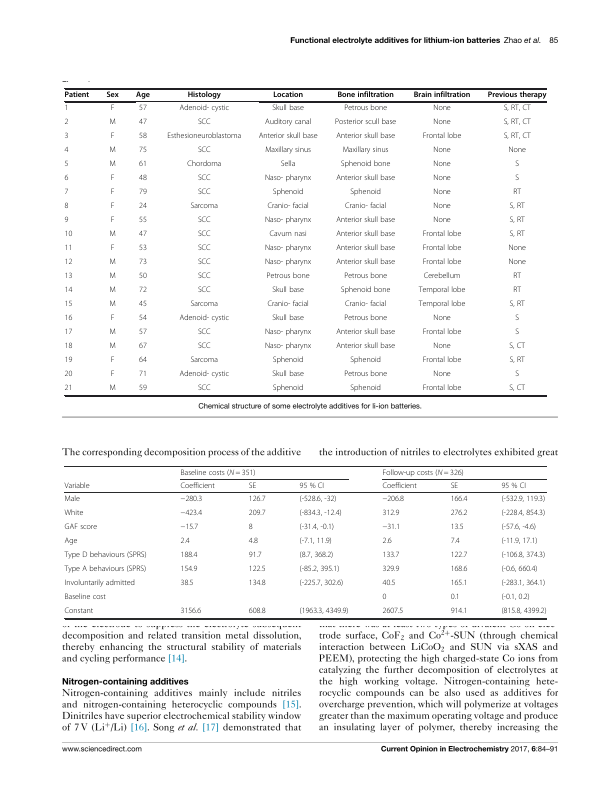borderless: (63, 87, 546, 395), (63, 464, 546, 618)
cell: (63, 550, 147, 560), (63, 564, 147, 574), (166, 132, 242, 142), (381, 468, 465, 477), (63, 578, 136, 588), (180, 468, 256, 477), (334, 118, 397, 128), (335, 132, 396, 142), (335, 174, 396, 184), (335, 216, 396, 226), (335, 230, 396, 240), (335, 244, 396, 254), (335, 258, 396, 268), (335, 328, 396, 338), (335, 342, 396, 352), (258, 132, 318, 142), (487, 91, 547, 100), (336, 91, 395, 100), (413, 91, 471, 100), (178, 104, 230, 114), (178, 314, 230, 324), (178, 370, 230, 380), (340, 160, 391, 170), (340, 286, 391, 296), (299, 606, 349, 616), (264, 118, 312, 128), (264, 146, 312, 156), (264, 174, 312, 184), (264, 216, 312, 226), (264, 244, 312, 254), (264, 258, 312, 268), (418, 286, 466, 296), (418, 300, 466, 310), (264, 328, 312, 338), (264, 342, 312, 352), (500, 606, 547, 616), (342, 146, 389, 156), (500, 494, 546, 504), (500, 508, 546, 518), (500, 550, 546, 560), (500, 578, 546, 588), (299, 578, 344, 588), (343, 104, 388, 114), (343, 272, 388, 282), (343, 314, 388, 324), (343, 370, 388, 380), (63, 592, 107, 602), (266, 202, 310, 212), (266, 272, 310, 282), (266, 300, 310, 310), (299, 508, 342, 518), (344, 202, 387, 212), (344, 300, 387, 310), (299, 564, 340, 574), (422, 132, 462, 142), (268, 230, 308, 240), (422, 230, 462, 240), (422, 244, 462, 254), (422, 258, 462, 268), (422, 328, 462, 338), (422, 356, 462, 366), (422, 384, 462, 394), (299, 494, 337, 504), (500, 536, 538, 546), (500, 564, 538, 574), (423, 272, 461, 282), (381, 481, 418, 491), (500, 522, 537, 532), (180, 481, 216, 491), (299, 522, 335, 532), (186, 160, 222, 170), (63, 522, 98, 532), (299, 550, 334, 560), (299, 536, 333, 546), (271, 104, 305, 114), (271, 286, 305, 296), (271, 314, 305, 324), (271, 370, 305, 380), (349, 188, 382, 198), (349, 356, 382, 366), (349, 384, 382, 394), (272, 188, 304, 198), (272, 356, 304, 366), (272, 384, 304, 394), (187, 91, 222, 100), (500, 592, 531, 602), (63, 606, 94, 616), (189, 202, 219, 212), (189, 300, 219, 310), (189, 356, 219, 366), (503, 104, 532, 114), (503, 118, 532, 128), (503, 132, 532, 142), (272, 91, 304, 100), (63, 481, 90, 491), (500, 481, 527, 491), (299, 481, 325, 491), (381, 494, 405, 504), (64, 91, 90, 100), (180, 494, 203, 504), (180, 508, 203, 518), (381, 606, 404, 616), (180, 606, 202, 616), (63, 508, 84, 518), (381, 522, 401, 532), (432, 104, 452, 114), (432, 118, 452, 128), (432, 146, 452, 156), (507, 146, 527, 156), (432, 160, 452, 170), (432, 174, 452, 184), (432, 188, 452, 198), (432, 202, 452, 212), (432, 216, 452, 226), (507, 244, 527, 254), (507, 258, 527, 268), (432, 314, 452, 324), (432, 342, 452, 352), (432, 370, 452, 380), (381, 508, 400, 518), (180, 522, 199, 532), (381, 550, 400, 560), (381, 564, 400, 574), (63, 494, 81, 504), (248, 494, 266, 504), (450, 494, 468, 504), (248, 508, 266, 518), (450, 508, 468, 518), (180, 550, 198, 560), (450, 550, 468, 560), (180, 564, 198, 574), (248, 564, 266, 574), (450, 564, 468, 574), (248, 578, 266, 588), (450, 578, 468, 588), (248, 606, 266, 616), (450, 606, 468, 616), (508, 342, 526, 352), (508, 384, 526, 394), (509, 202, 526, 212), (509, 216, 526, 226), (509, 230, 526, 240), (509, 300, 526, 310), (509, 356, 526, 366), (280, 160, 296, 170), (63, 536, 78, 546), (248, 550, 263, 560), (381, 578, 396, 588), (135, 91, 151, 100), (450, 522, 464, 532), (180, 578, 194, 588), (197, 118, 211, 128), (197, 146, 211, 156), (197, 174, 211, 184), (197, 188, 211, 198), (197, 216, 211, 226), (197, 230, 211, 240), (197, 244, 211, 254), (197, 258, 211, 268), (197, 272, 211, 282), (197, 286, 211, 296), (197, 328, 211, 338), (197, 342, 211, 352), (197, 384, 211, 394), (105, 91, 120, 100), (180, 536, 191, 546), (248, 536, 259, 546), (381, 536, 392, 546), (450, 536, 461, 546), (450, 592, 461, 602), (138, 104, 148, 114), (138, 118, 148, 128), (138, 132, 148, 142), (138, 146, 148, 156), (138, 160, 148, 170), (138, 174, 148, 184), (138, 188, 148, 198), (512, 188, 522, 198), (138, 202, 148, 212), (138, 216, 148, 226), (138, 230, 148, 240), (138, 244, 148, 254), (138, 258, 148, 268), (138, 272, 148, 282), (512, 272, 522, 282), (138, 286, 148, 296), (512, 286, 522, 296), (138, 300, 148, 310), (138, 314, 148, 324), (138, 328, 148, 338), (138, 342, 148, 352), (138, 356, 148, 366), (138, 370, 148, 380), (138, 384, 148, 394), (248, 481, 257, 491), (450, 481, 459, 491), (108, 118, 117, 128), (108, 146, 117, 156), (108, 160, 117, 170), (64, 230, 73, 240), (108, 230, 117, 240), (64, 244, 73, 254), (64, 258, 73, 268), (108, 258, 117, 268), (64, 272, 73, 282), (108, 272, 117, 282), (64, 286, 73, 296), (108, 286, 117, 296), (64, 300, 73, 310), (108, 300, 117, 310), (64, 314, 73, 324), (64, 328, 73, 338), (108, 328, 117, 338), (64, 342, 73, 352), (108, 342, 117, 352), (64, 356, 73, 366), (64, 370, 73, 380), (64, 384, 73, 394), (108, 384, 117, 394), (248, 522, 254, 532), (381, 592, 387, 602), (514, 160, 520, 170), (514, 174, 520, 184), (514, 314, 520, 324), (514, 328, 520, 338), (514, 370, 520, 380), (64, 104, 69, 114), (110, 104, 115, 114), (64, 118, 69, 128), (64, 132, 69, 142), (110, 132, 115, 142), (64, 146, 69, 156), (64, 160, 69, 170), (64, 174, 69, 184), (110, 174, 115, 184), (64, 188, 69, 198), (110, 188, 115, 198), (64, 202, 69, 212), (110, 202, 115, 212), (64, 216, 69, 226), (110, 216, 115, 226), (110, 244, 115, 254), (110, 314, 115, 324), (110, 356, 115, 366), (110, 370, 115, 380)
